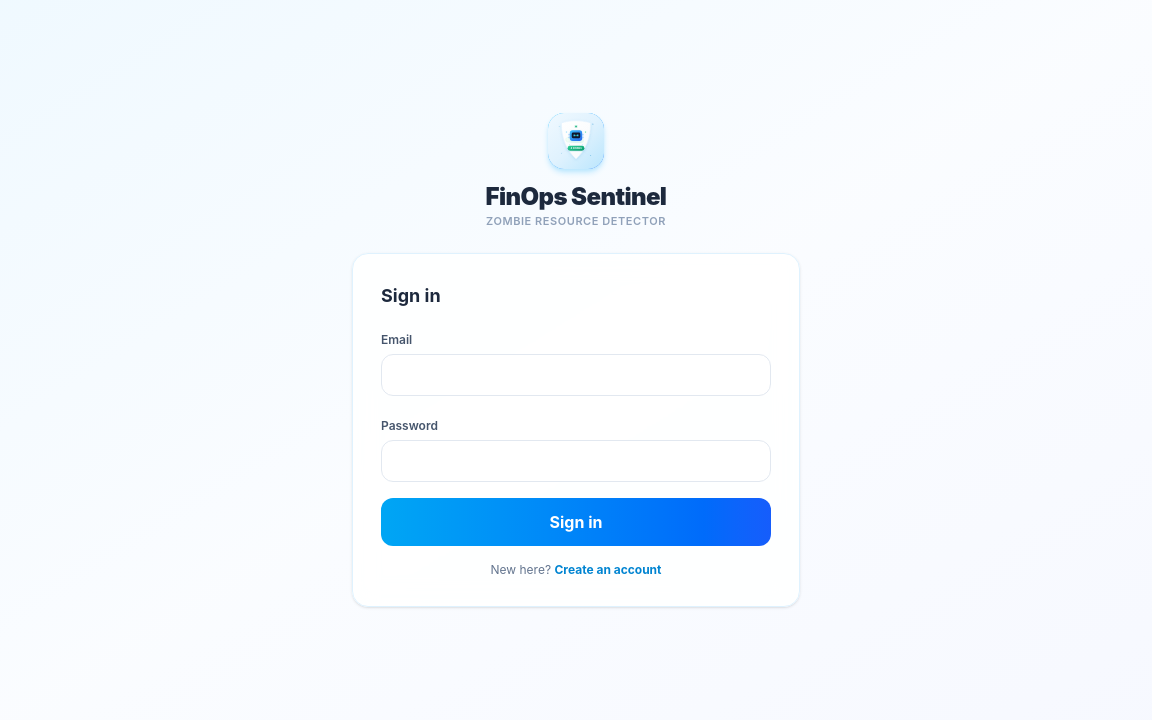
Test: role-based UI › regular users get a read-only policy page and no scheduler kill switch
This screenshot has width=1152, height=720.
In the field labelled "Email": coordinates (576, 375) x1=381 y1=354 x2=771 y2=396, type "user@example.com"
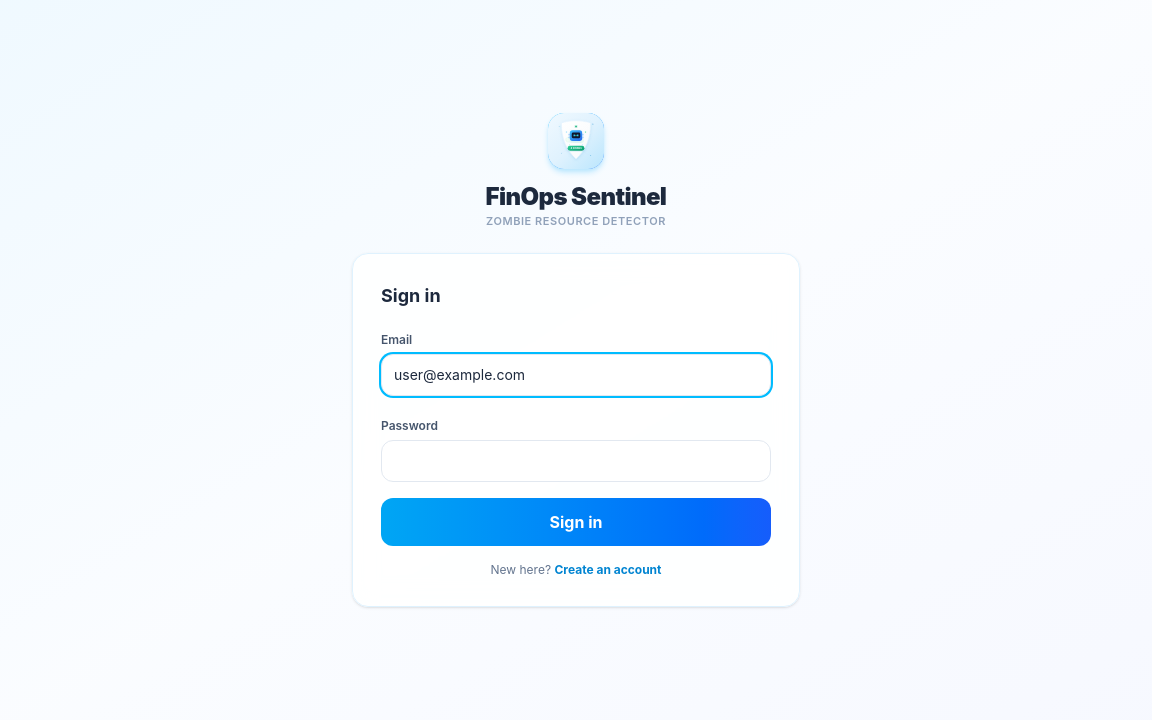
In the password field labelled "Password": coordinates (576, 461) x1=381 y1=440 x2=771 y2=482, type "userpass12"
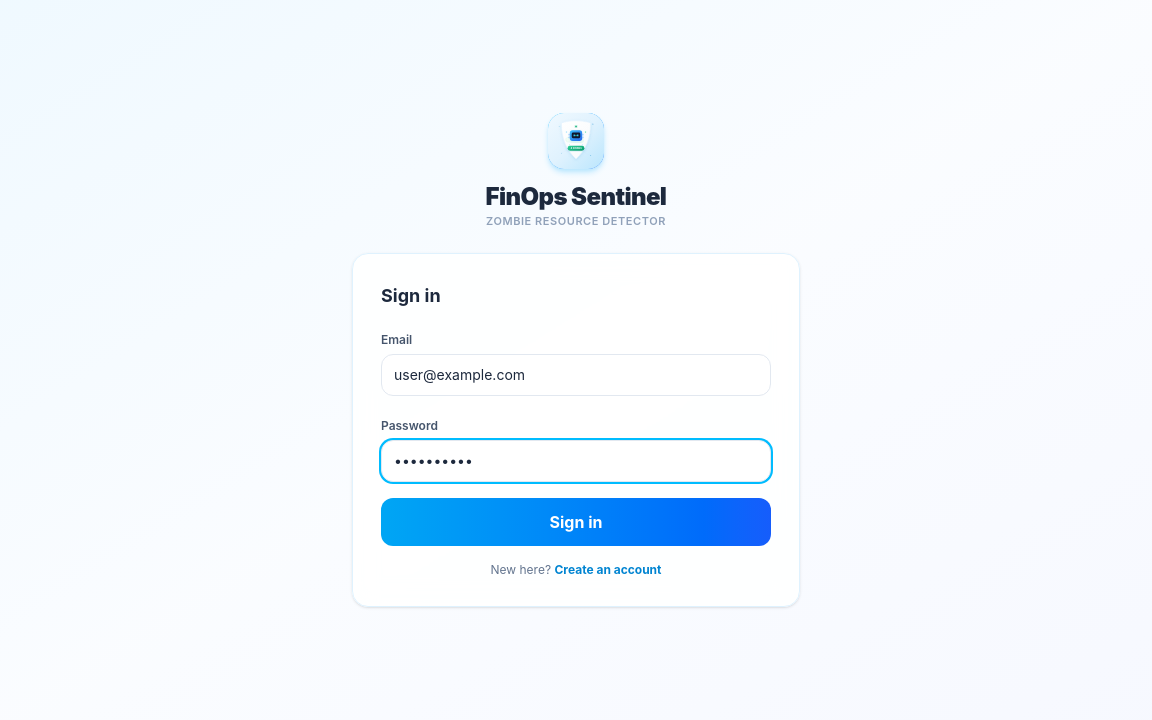
Click the button "Sign in": coordinates (576, 522) x1=381 y1=498 x2=771 y2=546
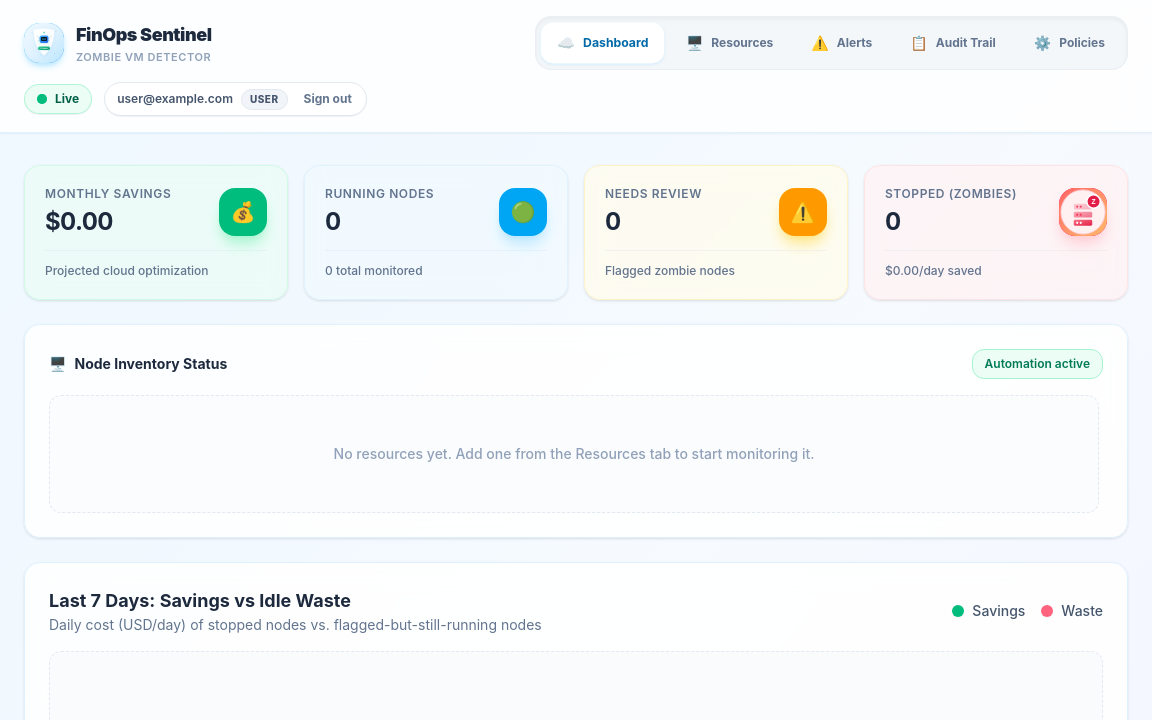
expect the text "user@example.com" is shown: met, box x1=117 y1=91 x2=233 y2=107
expect the text "Automation active" is shown: met, box x1=972 y1=349 x2=1103 y2=379
Click the button "⚙️ Policies": coordinates (1069, 43) x1=1018 y1=23 x2=1121 y2=63
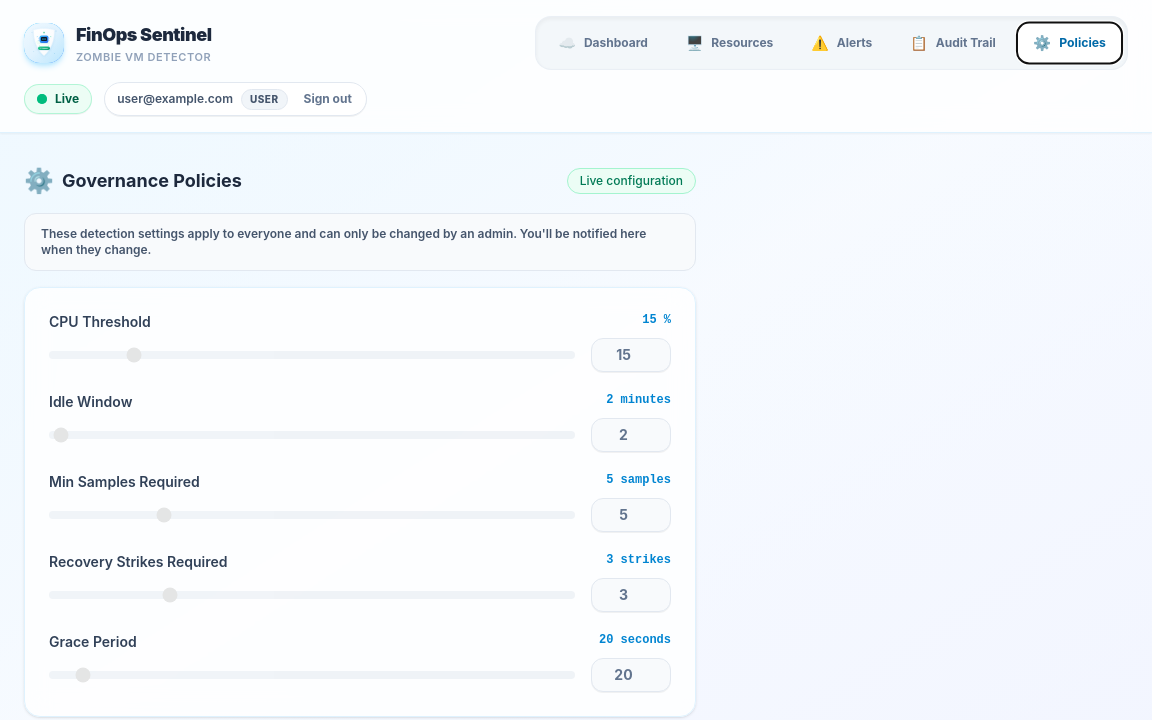
expect the text "can only be changed by an admin" is shown: met, box x1=41 y1=226 x2=646 y2=257
expect the number field below "15" is disabled: met, box x1=591 y1=338 x2=671 y2=372
expect the number field below "minutes" is disabled: met, box x1=591 y1=418 x2=671 y2=452
